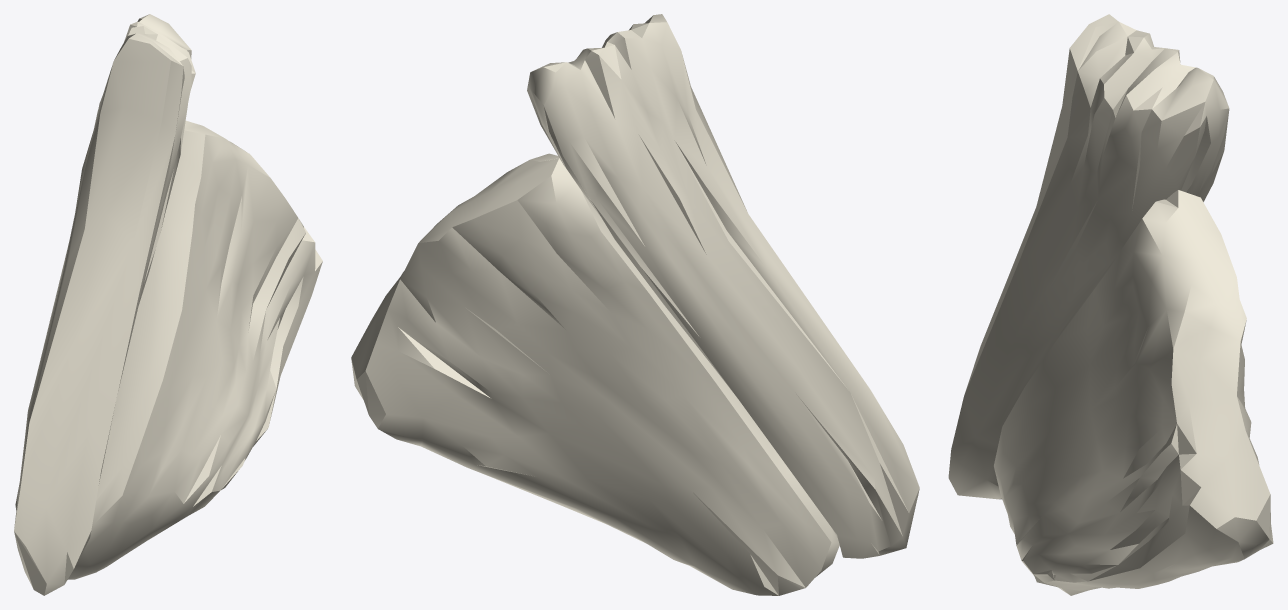
Rendered from fma73176_mm1464.glb.
3 renders of one model, left to right at view 1: azimuth 30°, elevation 25°; view 2: azimuth 150°, elevation 25°; view 3: azimuth 270°, elevation 25°, orthographic. The views are drawn at different scales.
Parts seen in each view (by area): view 1: FMA73176_MM1464; view 2: FMA73176_MM1464; view 3: FMA73176_MM1464.
Part boxes in pixels (bbox=[...]): FMA73176_MM1464: bbox=[14, 14, 322, 595]; FMA73176_MM1464: bbox=[351, 14, 919, 595]; FMA73176_MM1464: bbox=[948, 14, 1273, 595].
Bounding box in the file's own units: 0.0128 × 0.0154 × 0.00757.
